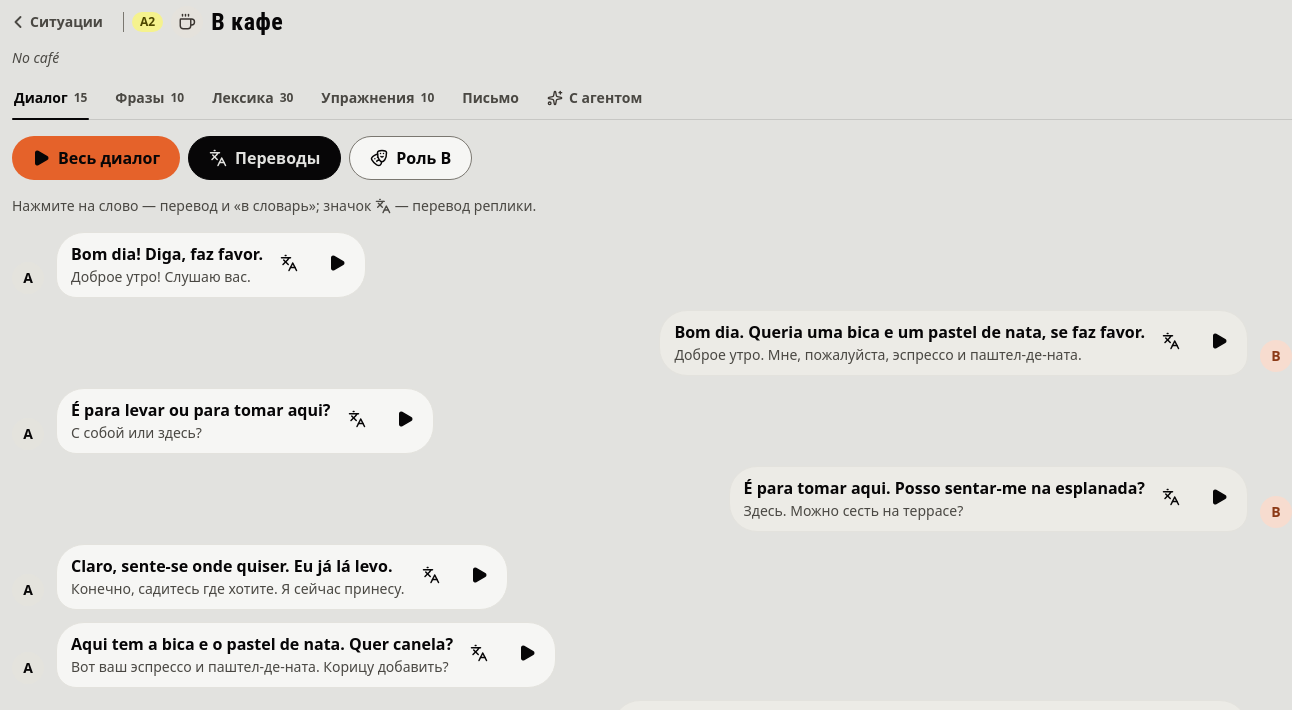
Dialogue › no pt-PT voice → warning and the sequence stops
The width and height of the screenshot is (1292, 710).
Click the button "Весь диалог".
click(96, 158)  # box [12,136,180,180]
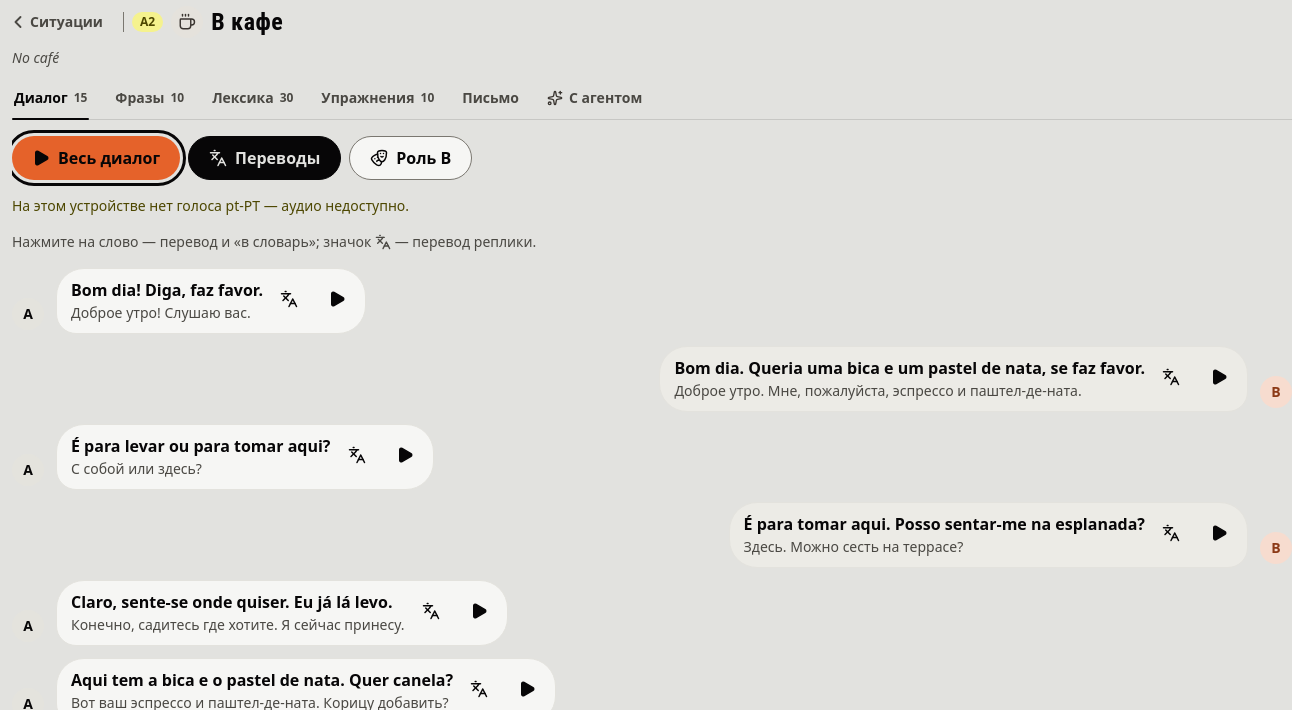
Check: the text "На этом устройстве нет голоса pt-PT — аудио недоступно." is shown, box [12,196,409,215]
